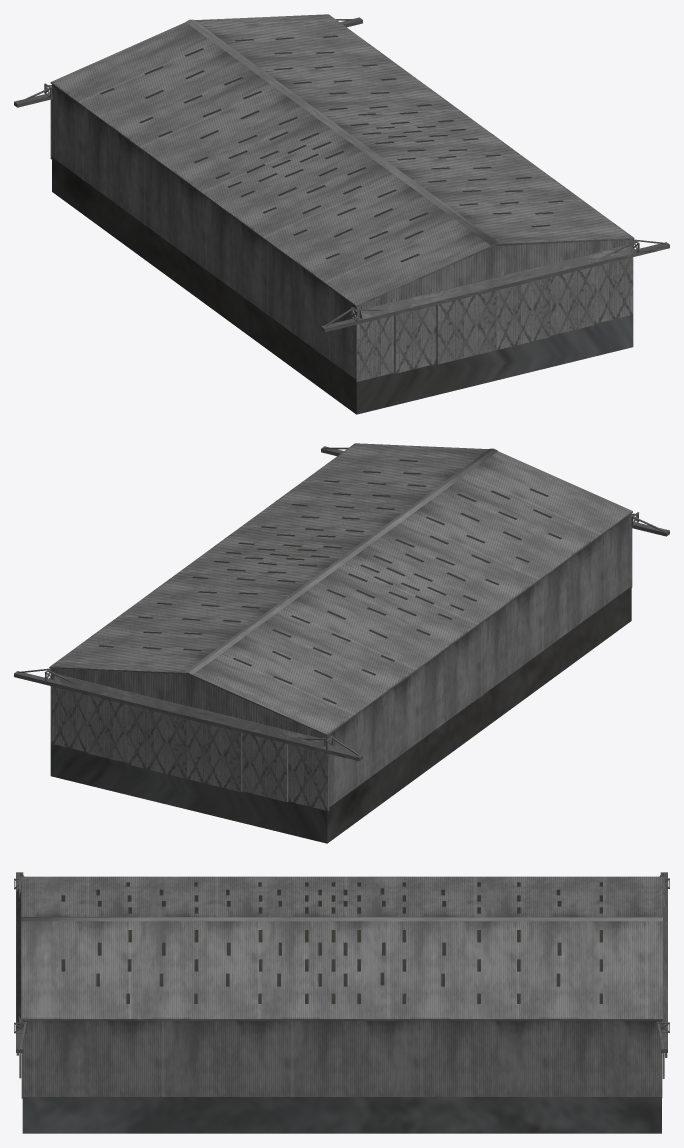
The model's file is t2_hangar.glb.
3 renders of one model, top to bottom at view 1: azimuth 30°, elevation 25°; view 2: azimuth 150°, elevation 25°; view 3: azimuth 270°, elevation 25°, orthographic. The views are drawn at different scales.
Parts seen in each view (by area): view 1: Object_2; view 2: Object_2; view 3: Object_2.
Boxes of the visible parts, <box> form: Object_2: <box>14,14,669,414</box>; Object_2: <box>14,443,669,843</box>; Object_2: <box>14,872,669,1133</box>.
Bounding box in the file's own units: 47.37 × 18.08 × 74.19.
Materials: 1 (1 with a texture image).
